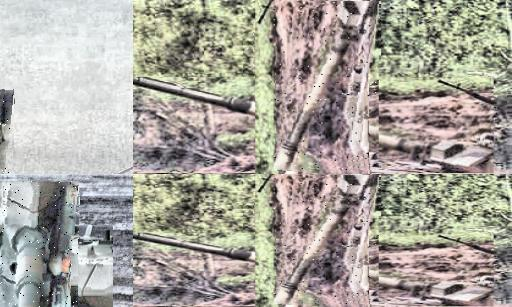tanks: (276, 2, 381, 171), (276, 176, 381, 305), (1, 183, 80, 307), (134, 93, 157, 106), (134, 245, 157, 256)
